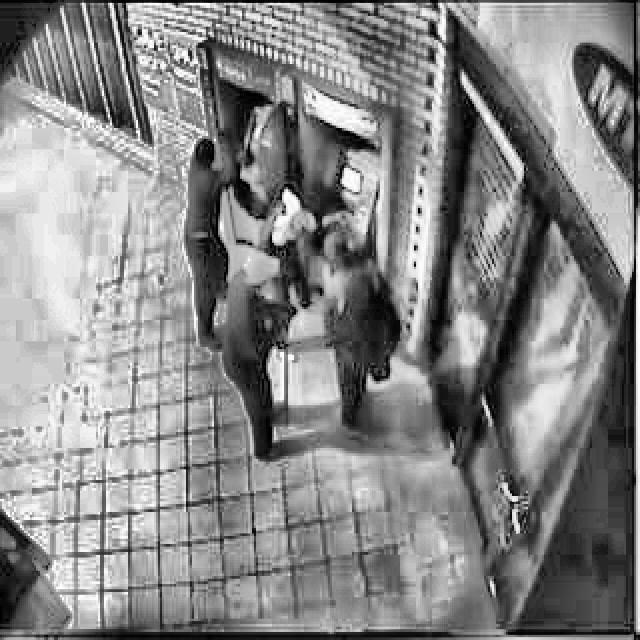burglary: (182, 88, 406, 464)
